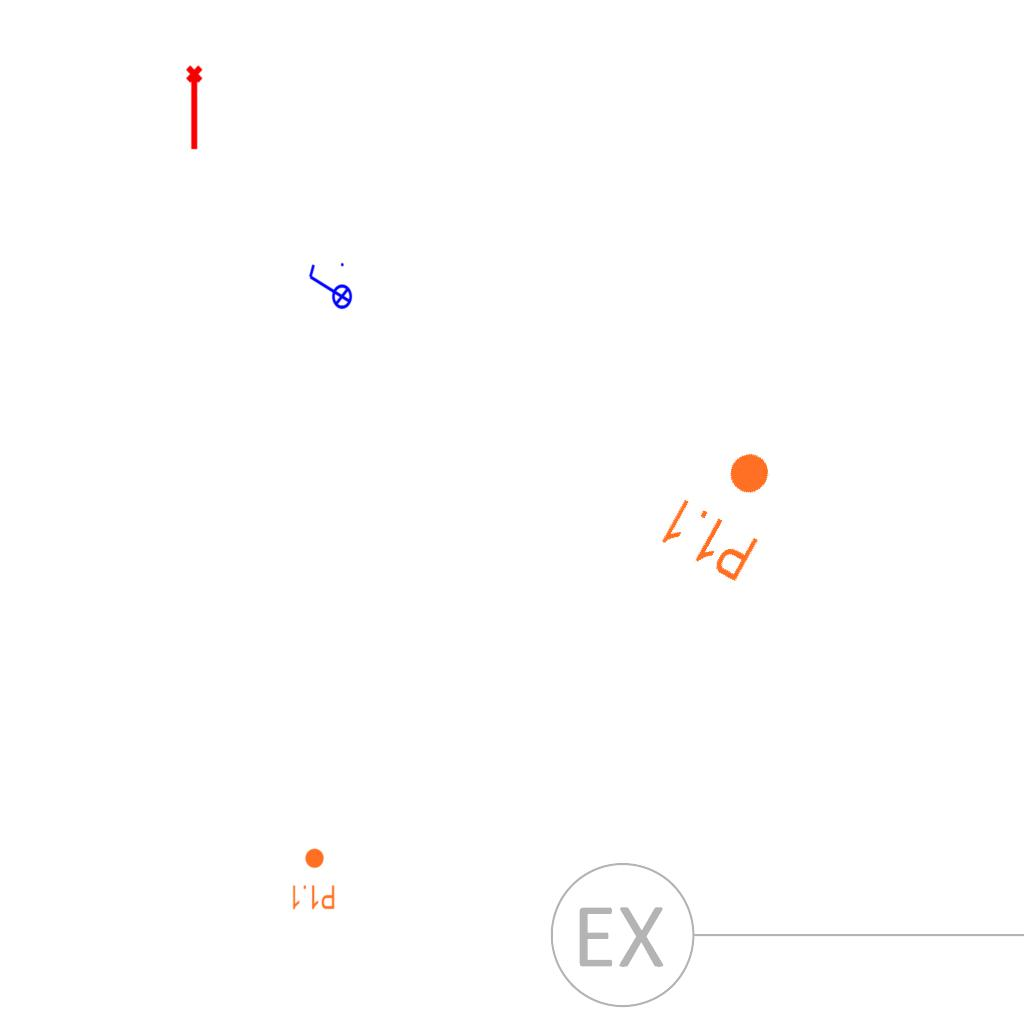ASR_Ansaugoeffnung: (184, 64, 207, 152)
Ausschalter_beleuchtet: (305, 260, 353, 316)
Downlight_LED_Einbauleuchten_Flur: (654, 429, 799, 587), (290, 847, 336, 911)
